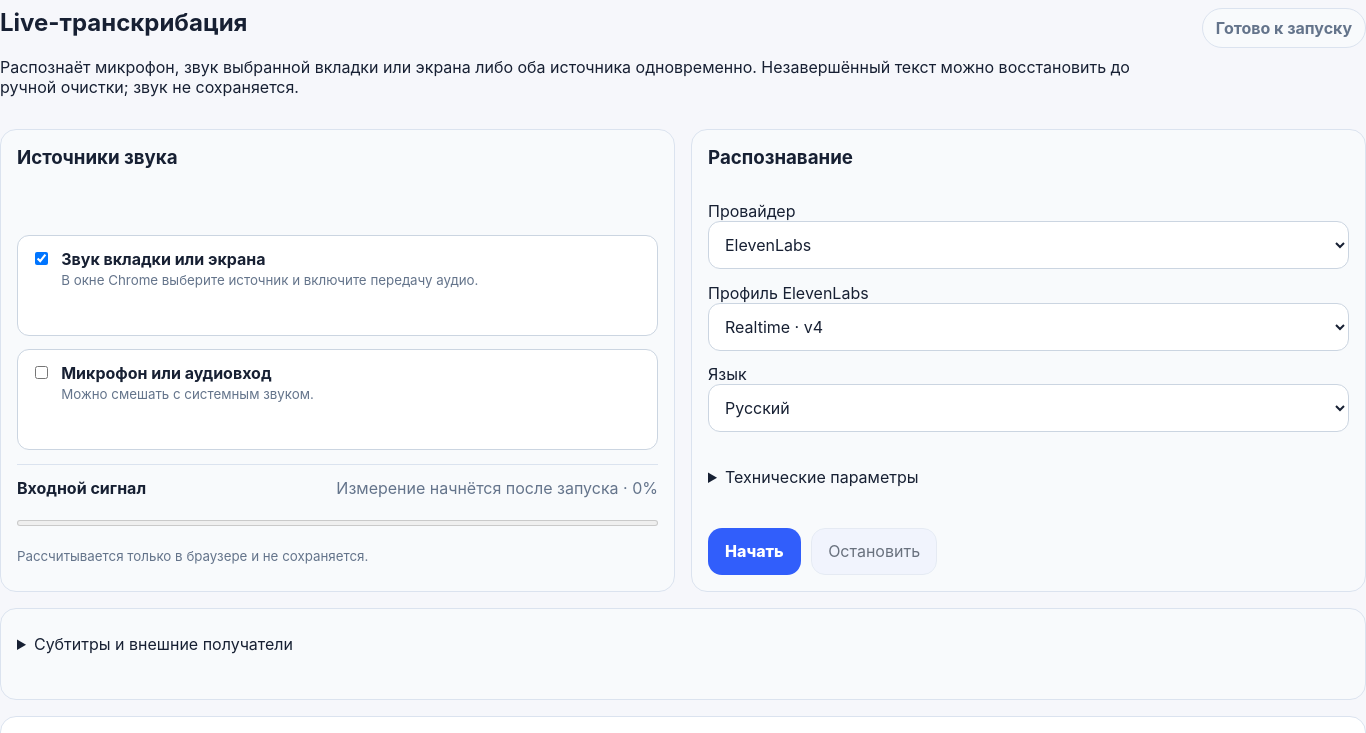
Test case: LiveTranscriptionPanel › shows isolated source levels and explains automatic ducking
Click the checkbox labelled "Микрофон или аудиовход".
click(41, 373)  # box [35,366,48,379]
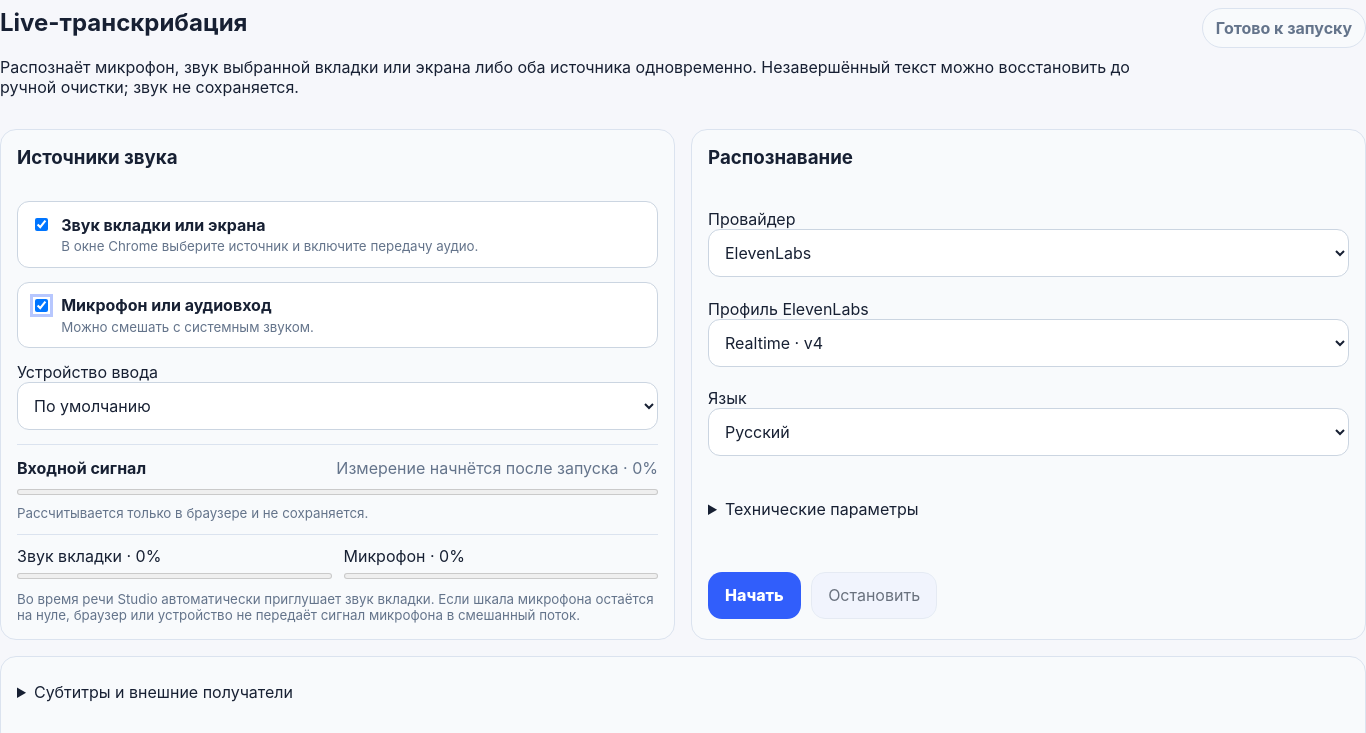
Expected: the element named "Уровни источников смешанного аудио" is shown, [17,534,658,623]
Click the button "Начать".
click(754, 595)  # box [708,572,801,619]
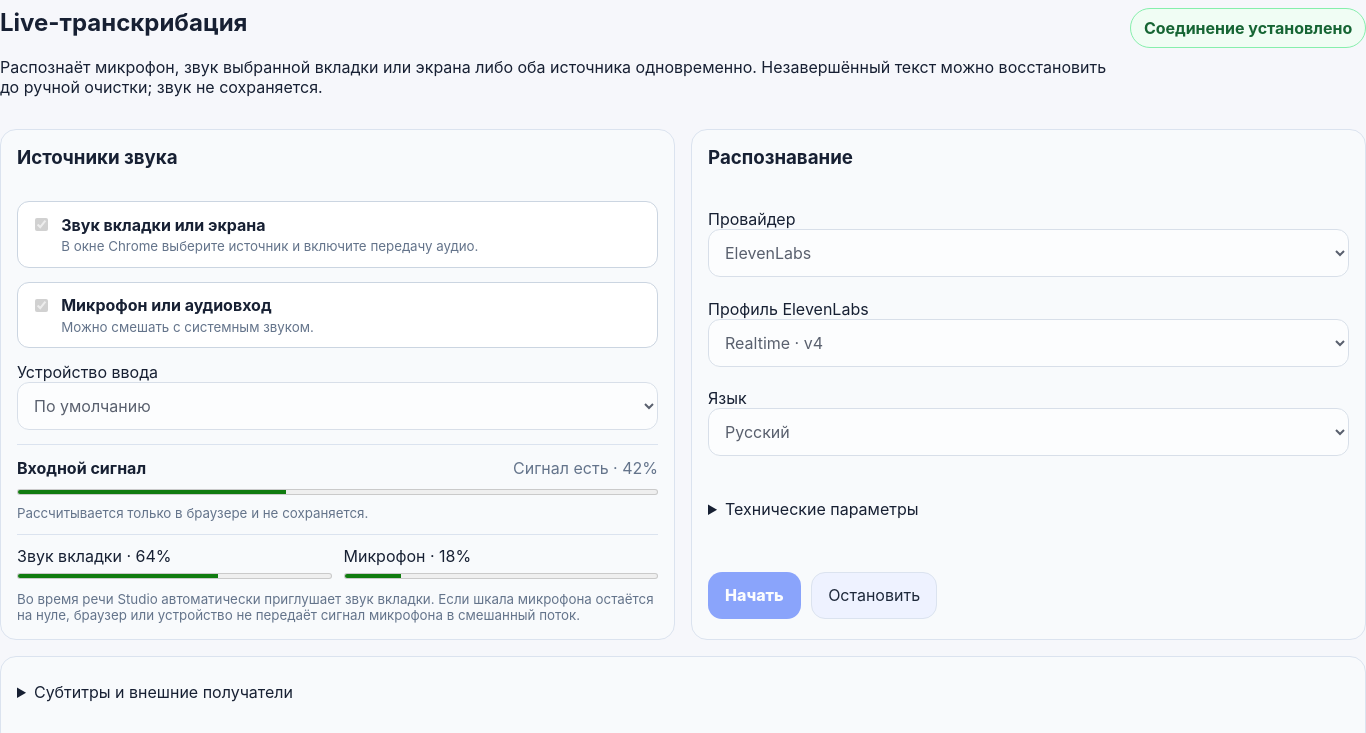
Expected: the text "Звук вкладки · 64%" is shown, [17,546,332,582]
Expected: the text "Микрофон · 18%" is shown, [344,546,658,582]
